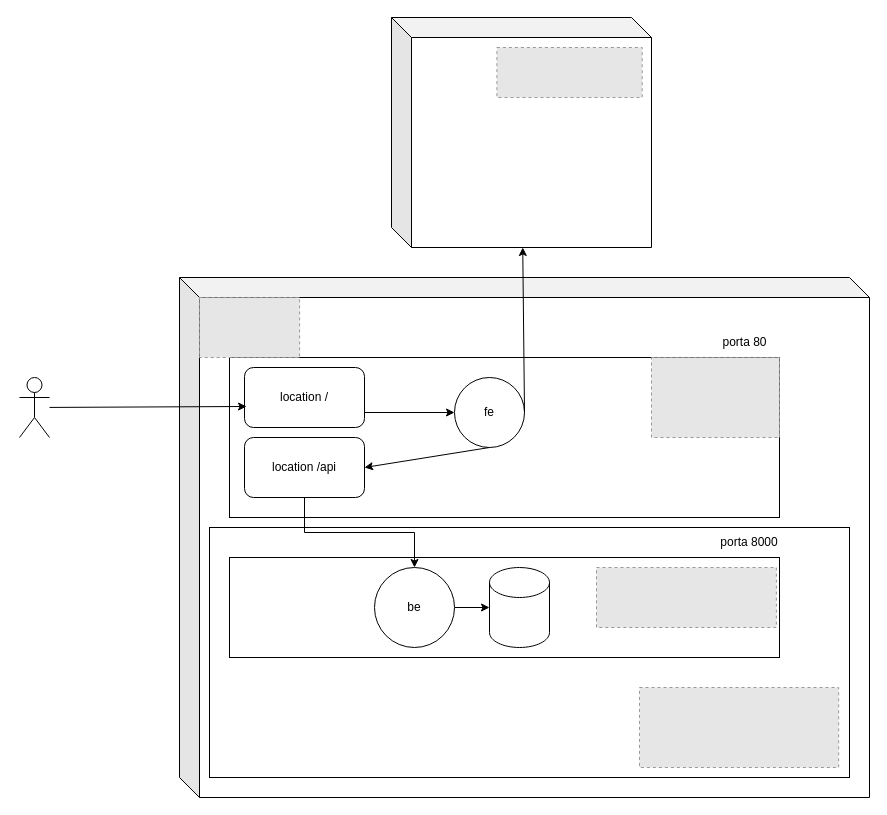
Some shapes in this 887 by 815 pixel diagram are drawn without their labels. Grey dashed boxes stand in for pictures. The centre of each missing label's shape, as x and y in pixels:
sql lite: pixel 519 607
Utente: pixel 34 407
